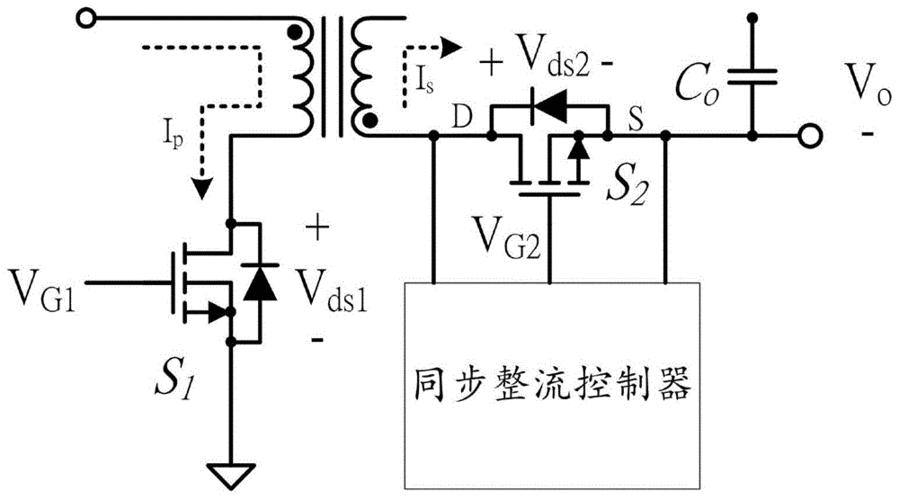cap1: (724, 66, 783, 87)
diode: (239, 258, 278, 306), (525, 84, 570, 125)
mos: (165, 238, 240, 353), (509, 131, 594, 205)
trans: (284, 11, 381, 144)
